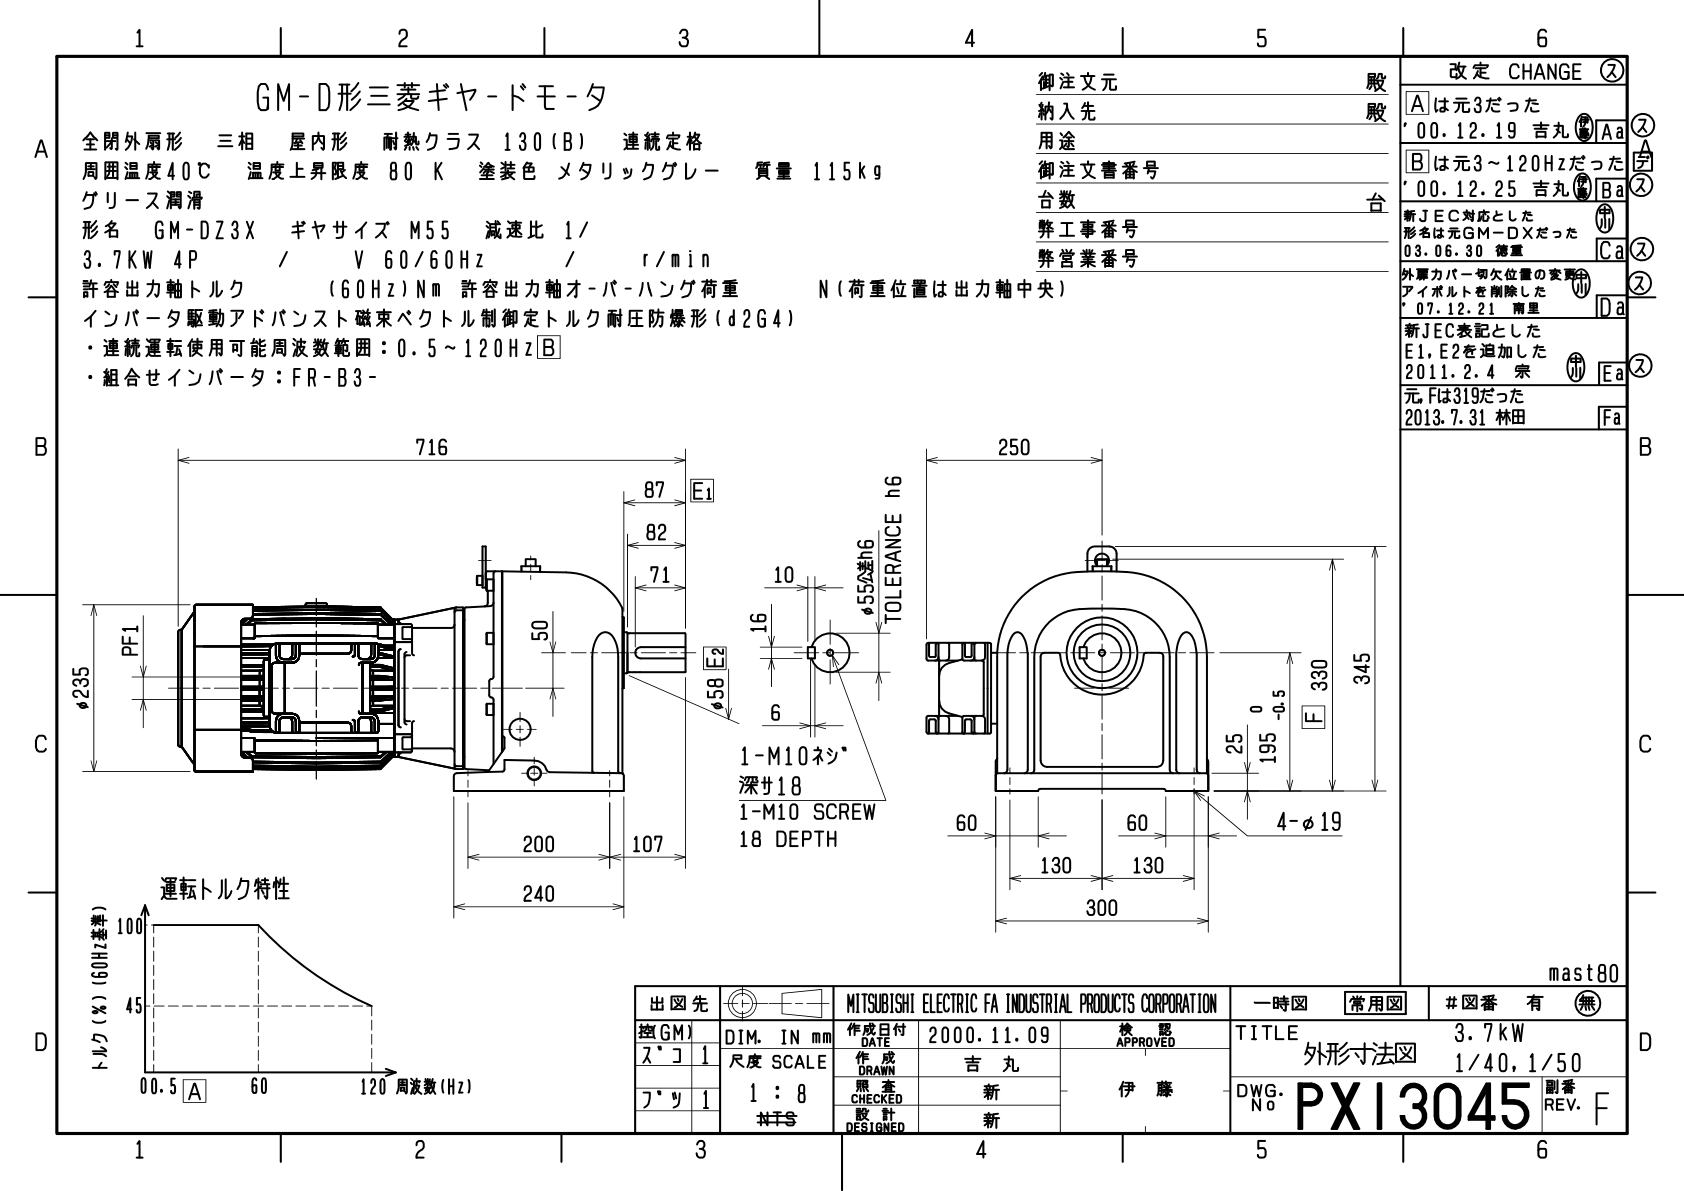GM_D_制御屋内_三相_脚: (64, 427, 1385, 963)
